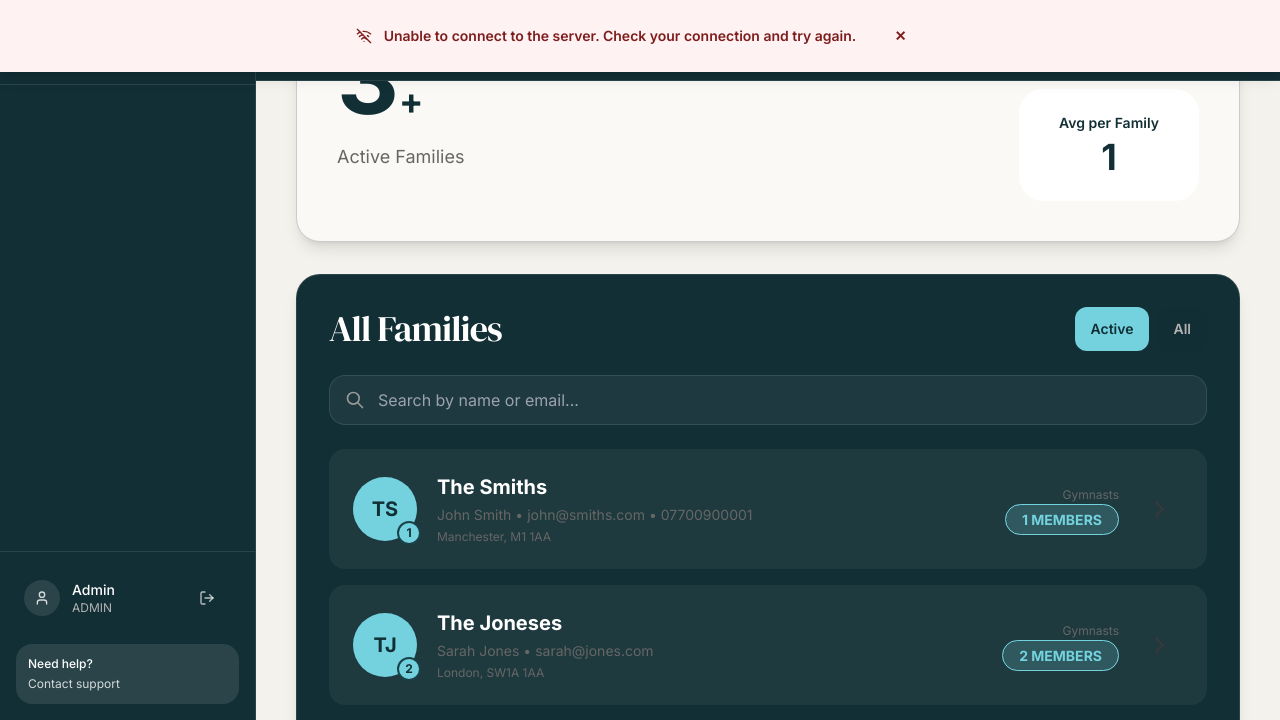
Test: FamiliesPage › can search by email address
The width and height of the screenshot is (1280, 720).
(page scrolled)
Expected: the heading "The Smiths" is shown, left=437, top=475, right=547, bottom=499
Type "david@green" into the field with placeholder "Search by name or email..." at coordinates (768, 400), box left=329, top=375, right=1207, bottom=425
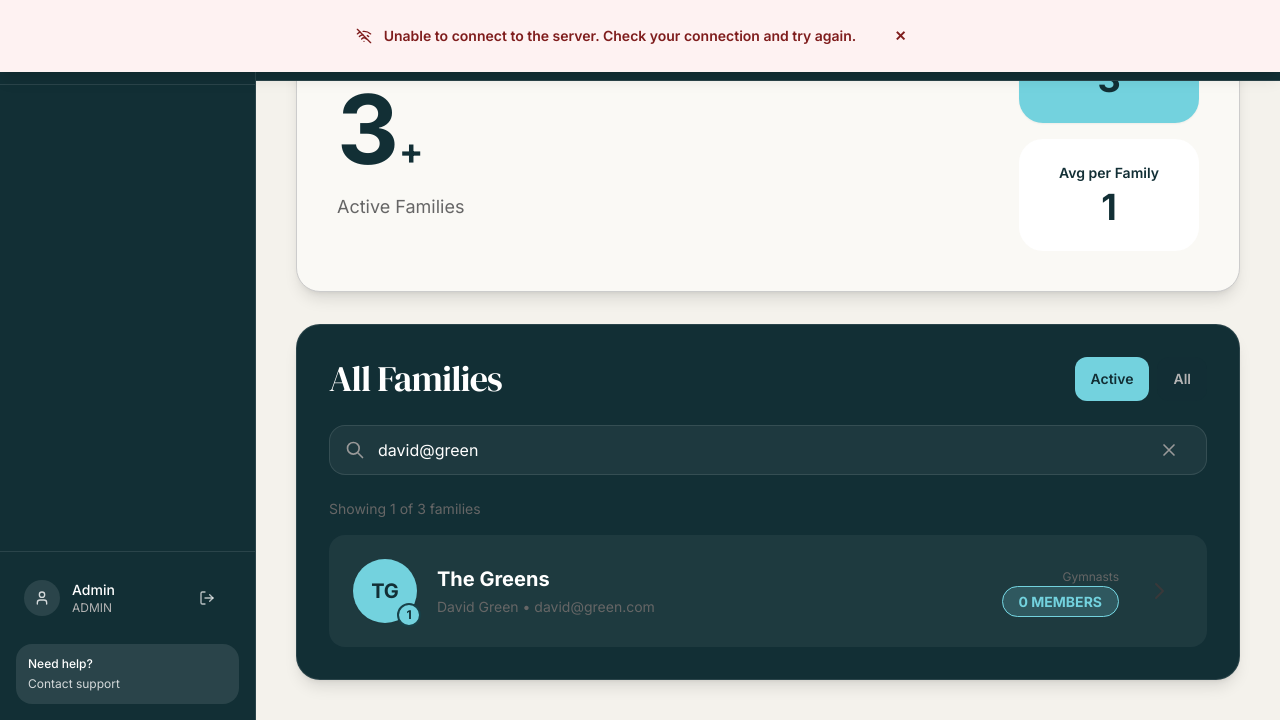
Expected: the heading "The Greens" is shown, left=437, top=567, right=550, bottom=591
Expected: the link "The Smiths" is gone
